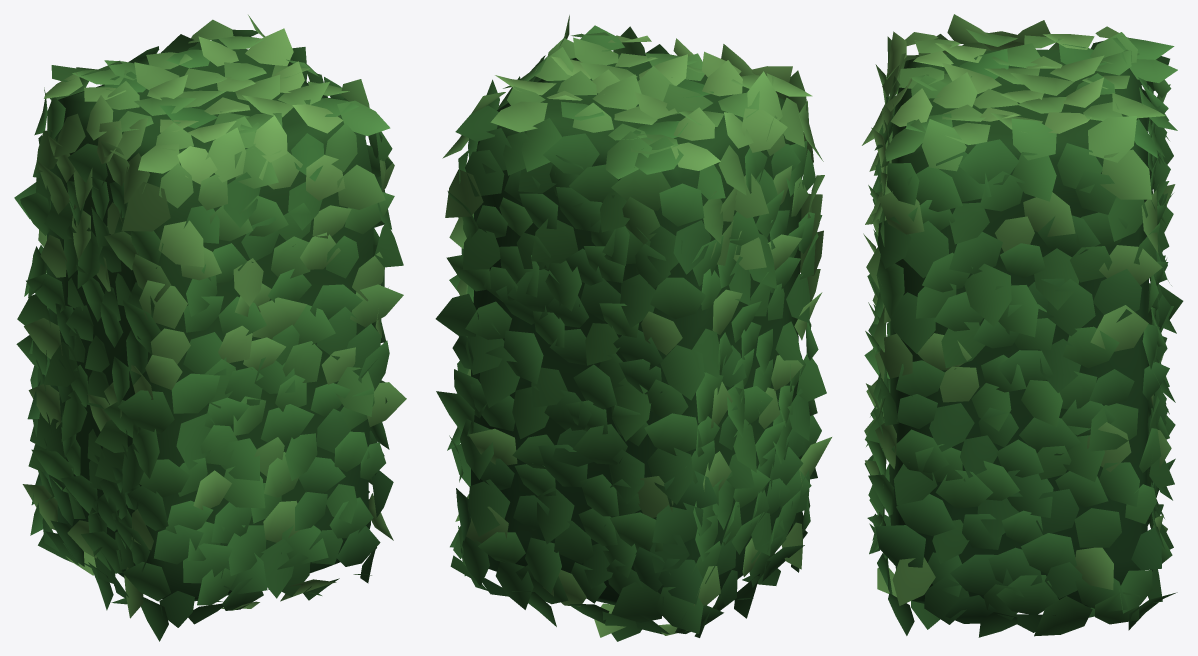
Rendered from furn_od_hedge_tall.glb.
The picture shows the model from 3 angles, left to right: view 1: azimuth 30°, elevation 25°; view 2: azimuth 150°, elevation 25°; view 3: azimuth 270°, elevation 25°; orthographic projection. The views are drawn at different scales.
Visible parts, largest first — view 1: furn_od_hedge_tall_main; view 2: furn_od_hedge_tall_main; view 3: furn_od_hedge_tall_main.
Boxes of the visible parts, x1,y1,x2,y2 form: furn_od_hedge_tall_main: [14, 15, 406, 641]; furn_od_hedge_tall_main: [435, 15, 831, 641]; furn_od_hedge_tall_main: [862, 14, 1183, 637].
Size of the model in its own units: 0.9316 by 1.66 by 0.8971.
